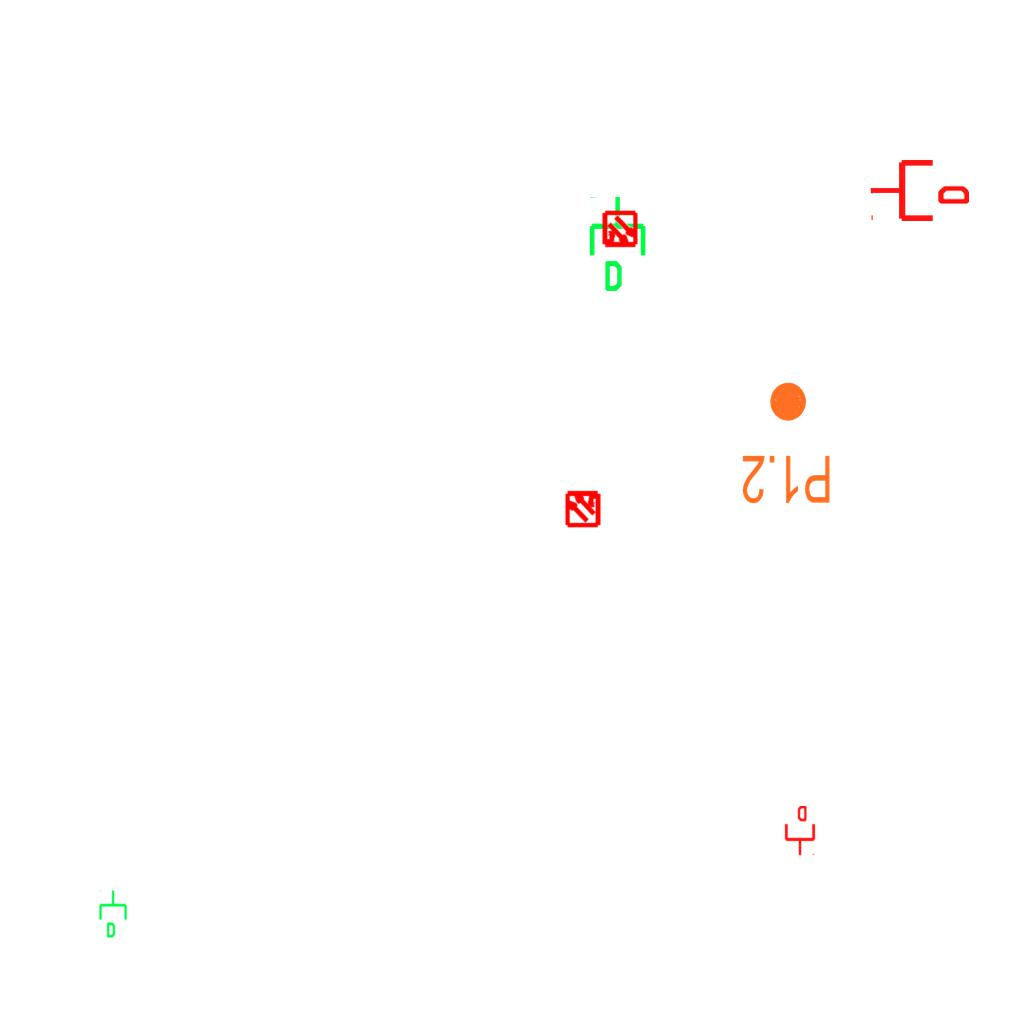Datenanschluss_einfach: (869, 156, 969, 225), (585, 194, 654, 294), (783, 806, 817, 856), (97, 889, 131, 939)
Downlight_LED_Einbauleuchten_Flur: (740, 379, 833, 507)
OT_Multisensormelder_(Kombination_RMO_WMD): (555, 480, 611, 536), (592, 202, 648, 258)
